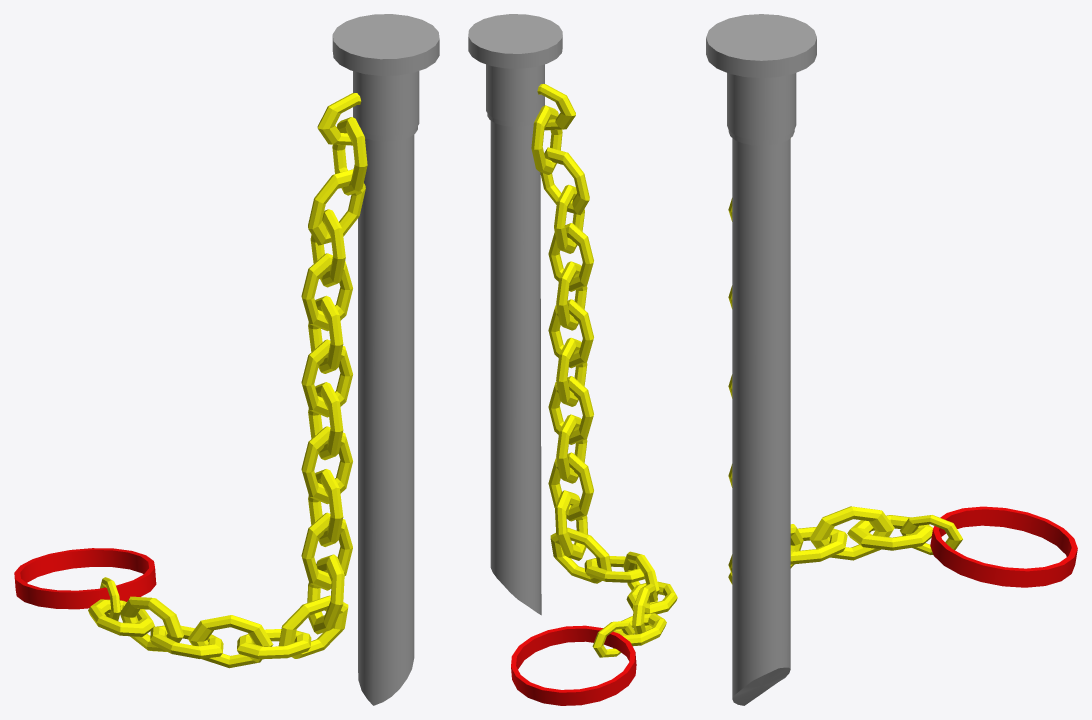
The model's file is dogstakeandchain.fbx.
The picture shows the model from 3 angles, left to right: view 1: azimuth 30°, elevation 25°; view 2: azimuth 150°, elevation 25°; view 3: azimuth 270°, elevation 25°; orthographic projection. The views are drawn at different scales.
Parts seen in each view (by area): view 1: pCylinder1, pCylinder2, pTorus15, pTorus3, pTorus8, pTorus10, pTorus5, pTorus12, pTorus13, pTorus11, pTorus1, pTorus17 (+8 smaller); view 2: pCylinder1, pCylinder2, pTorus3, pTorus10, pTorus8, pTorus5, pTorus12, pTorus13, pTorus11, pTorus1, pTorus7, pTorus6 (+9 smaller); view 3: pCylinder1, pCylinder2, pTorus17, pTorus18, pTorus16, pTorus19.
Boxes of the visible parts, x1,y1,x2,y2 form: pCylinder1: [332, 14, 439, 705]; pCylinder2: [14, 548, 156, 609]; pTorus15: [188, 615, 273, 668]; pTorus3: [308, 169, 365, 245]; pTorus8: [301, 339, 352, 417]; pTorus10: [301, 426, 352, 504]; pTorus5: [301, 253, 352, 331]; pTorus12: [301, 512, 352, 590]; pTorus13: [278, 595, 348, 658]; pTorus11: [307, 554, 344, 634]; pTorus1: [332, 117, 367, 195]; pTorus17: [120, 596, 183, 651]; pCylinder1: [468, 14, 562, 615]; pCylinder2: [511, 625, 636, 705]; pTorus3: [540, 147, 589, 215]; pTorus10: [548, 376, 593, 444]; pTorus8: [548, 299, 593, 368]; pTorus5: [548, 223, 593, 291]; pTorus12: [548, 452, 593, 521]; pTorus13: [550, 527, 611, 583]; pTorus11: [555, 490, 587, 560]; pTorus1: [531, 105, 562, 174]; pTorus7: [556, 337, 587, 406]; pTorus6: [556, 261, 587, 330]; pCylinder1: [706, 14, 816, 705]; pCylinder2: [930, 506, 1077, 587]; pTorus17: [809, 506, 894, 560]; pTorus18: [847, 515, 933, 550]; pTorus16: [790, 527, 847, 564]; pTorus19: [900, 515, 962, 554].
Bounding box in the file's own units: 0.9621 × 2.08 × 1.03.
